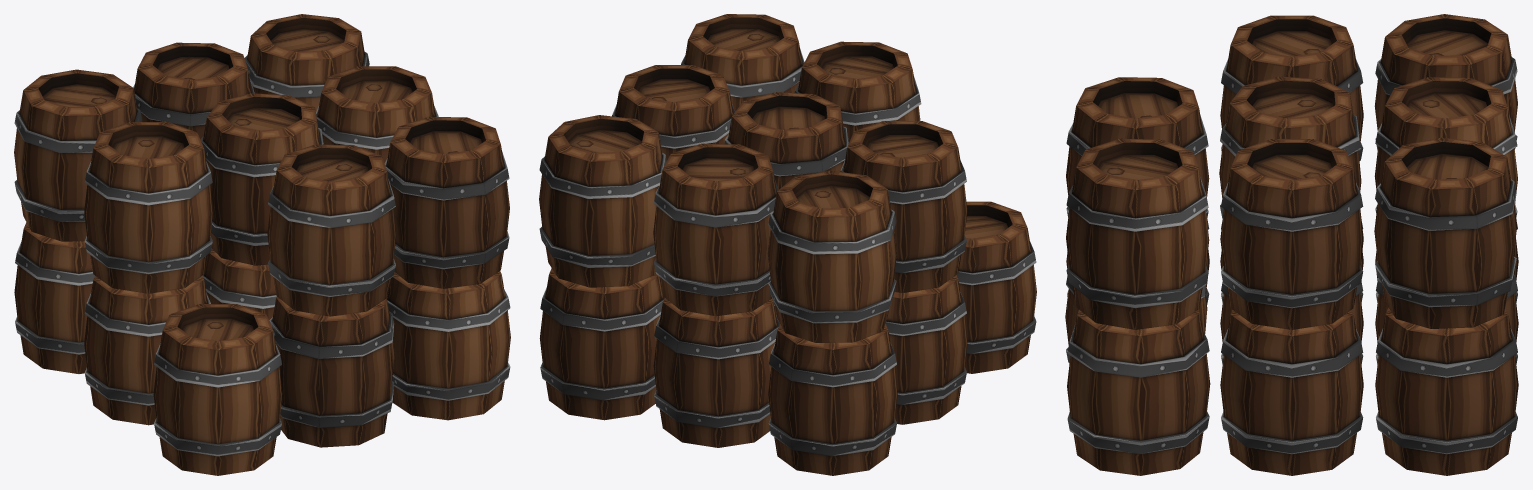
File: Barrels.fbx
The picture shows the model from 3 angles, left to right: view 1: azimuth 30°, elevation 25°; view 2: azimuth 150°, elevation 25°; view 3: azimuth 270°, elevation 25°; orthographic projection. The views are drawn at different scales.
Visible parts, largest first — view 1: Barrel16, Barrel09, Barrel15, Barrel17, Barrel08, Barrel07, Barrel12, Barrel13, Barrel06, Barrel03, Barrel11, Barrel14 (+2 smaller); view 2: Barrel12, Barrel11, Barrel10, Barrel03, Barrel01, Barrel02, Barrel15, Barrel09, Barrel06, Barrel16, Barrel13, Barrel17 (+1 smaller); view 3: Barrel14, Barrel17, Barrel11, Barrel05, Barrel08, Barrel02, Barrel12, Barrel15, Barrel16, Barrel13, Barrel10, Barrel01 (+2 smaller).
Boxes of the visible parts, x1=… form: Barrel16: x1=267, y1=144, x2=396, y2=316; Barrel09: x1=153, y1=304, x2=282, y2=475; Barrel15: x1=84, y1=122, x2=213, y2=293; Barrel17: x1=384, y1=116, x2=509, y2=288; Barrel08: x1=387, y1=271, x2=510, y2=420; Barrel07: x1=269, y1=296, x2=394, y2=447; Barrel12: x1=14, y1=69, x2=142, y2=241; Barrel13: x1=200, y1=93, x2=323, y2=265; Barrel06: x1=84, y1=275, x2=210, y2=425; Barrel03: x1=14, y1=222, x2=94, y2=373; Barrel11: x1=244, y1=14, x2=369, y2=111; Barrel14: x1=316, y1=66, x2=438, y2=163; Barrel12: x1=767, y1=170, x2=896, y2=342; Barrel11: x1=539, y1=115, x2=666, y2=287; Barrel10: x1=653, y1=143, x2=778, y2=316; Barrel03: x1=768, y1=323, x2=897, y2=475; Barrel01: x1=653, y1=298, x2=779, y2=447; Barrel02: x1=539, y1=268, x2=664, y2=420; Barrel15: x1=840, y1=121, x2=967, y2=292; Barrel09: x1=956, y1=201, x2=1036, y2=373; Barrel06: x1=885, y1=275, x2=967, y2=424; Barrel16: x1=794, y1=41, x2=921, y2=142; Barrel13: x1=724, y1=92, x2=848, y2=189; Barrel17: x1=681, y1=14, x2=804, y2=111; Barrel14: x1=1220, y1=139, x2=1363, y2=329; Barrel17: x1=1066, y1=138, x2=1209, y2=329; Barrel11: x1=1374, y1=137, x2=1517, y2=328; Barrel05: x1=1220, y1=310, x2=1363, y2=475; Barrel08: x1=1067, y1=309, x2=1210, y2=475; Barrel02: x1=1375, y1=307, x2=1518, y2=475; Barrel12: x1=1374, y1=14, x2=1517, y2=149; Barrel15: x1=1220, y1=15, x2=1363, y2=160; Barrel16: x1=1066, y1=77, x2=1209, y2=218; Barrel13: x1=1219, y1=76, x2=1361, y2=218; Barrel10: x1=1374, y1=77, x2=1517, y2=216; Barrel01: x1=1375, y1=274, x2=1518, y2=364.
Bounding box in the file's own units: 137 × 101 × 142.
Materials: 1 (1 with a texture image).
